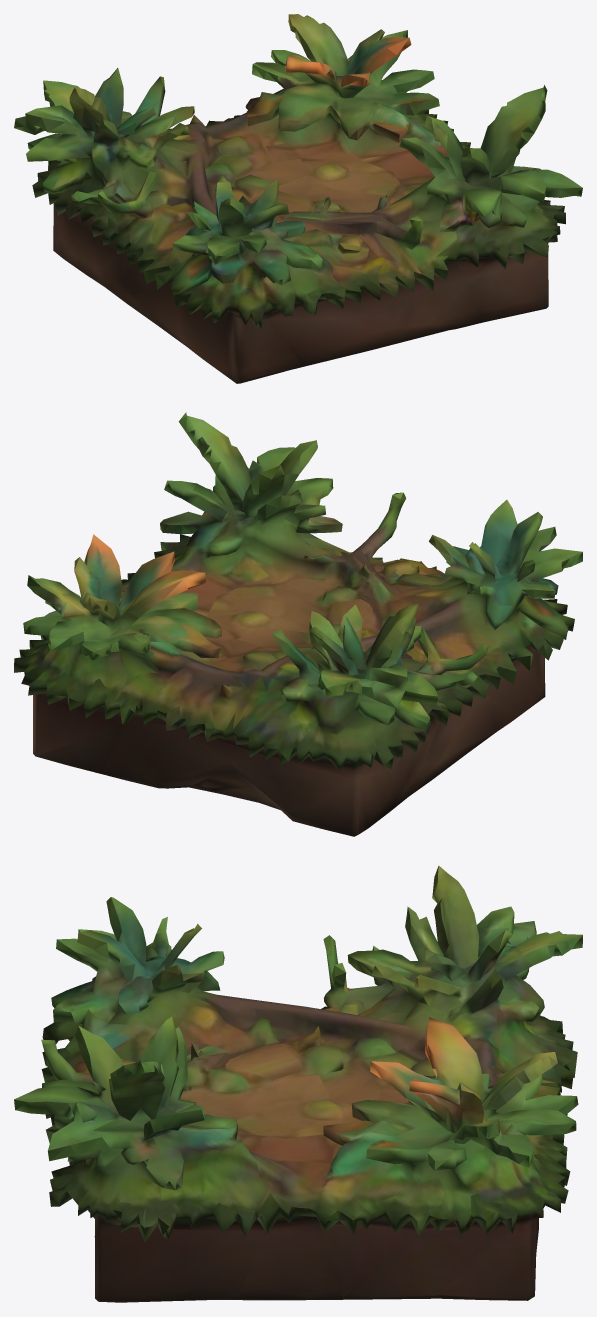
File: t12_chao_floresta.glb
The picture shows the model from 3 angles, top to bottom: view 1: azimuth 30°, elevation 25°; view 2: azimuth 150°, elevation 25°; view 3: azimuth 270°, elevation 25°; orthographic projection. The views are drawn at different scales.
Parts seen in each view (by area): view 1: t12_chao_floresta; view 2: t12_chao_floresta; view 3: t12_chao_floresta.
Part boxes in pixels (x1,y1,x2,y2): t12_chao_floresta: [14, 14, 582, 383]; t12_chao_floresta: [14, 412, 582, 836]; t12_chao_floresta: [14, 865, 582, 1302].
Size of the model in its own units: 1.14 by 0.566 by 1.16.
Materials: 1 (1 with a texture image).
